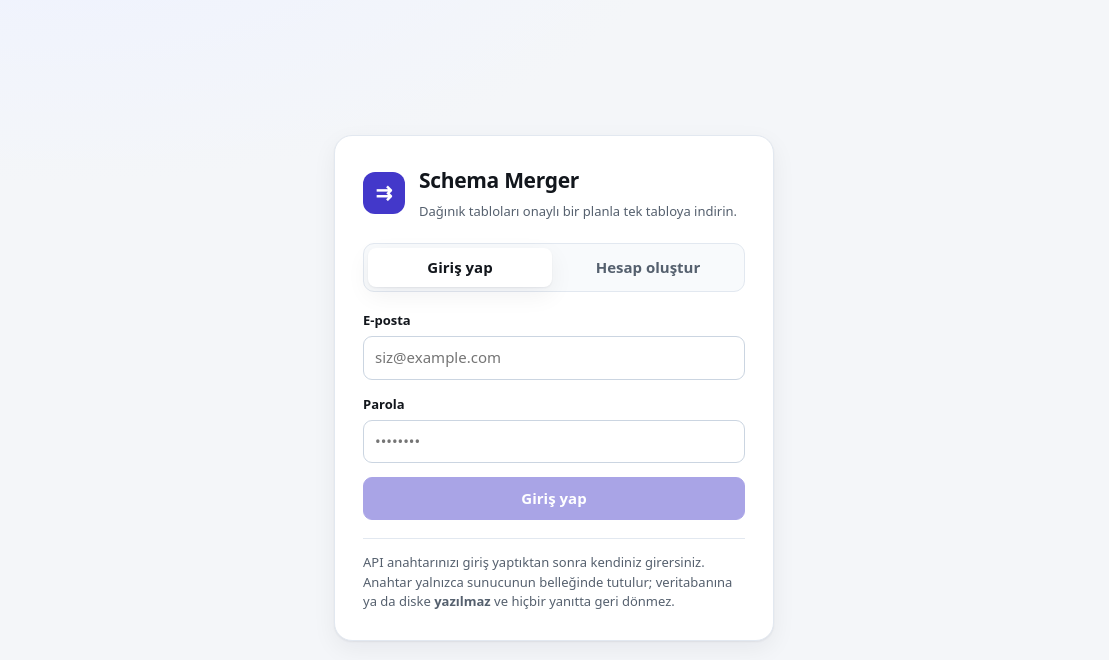
accounts › signs in and lands on the upload step
In the field labelled "E-posta": (554, 358) [363,336,745,380], type "kullanici@example.com"
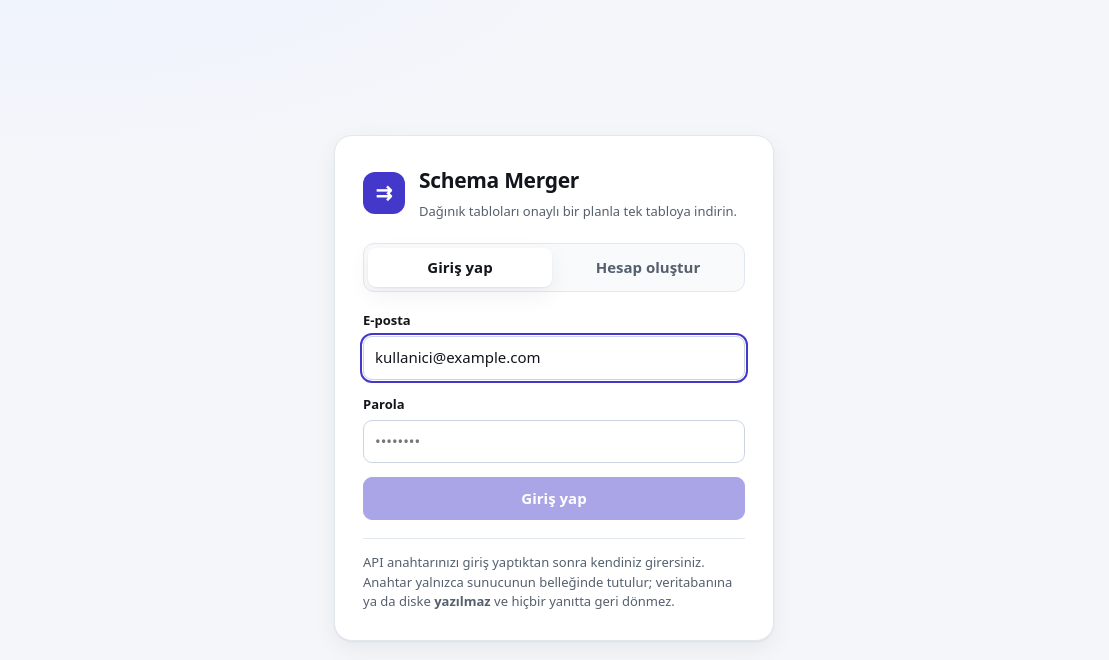
In the password field labelled "Parola": (554, 441) [363,420,745,463], type "parola1234"
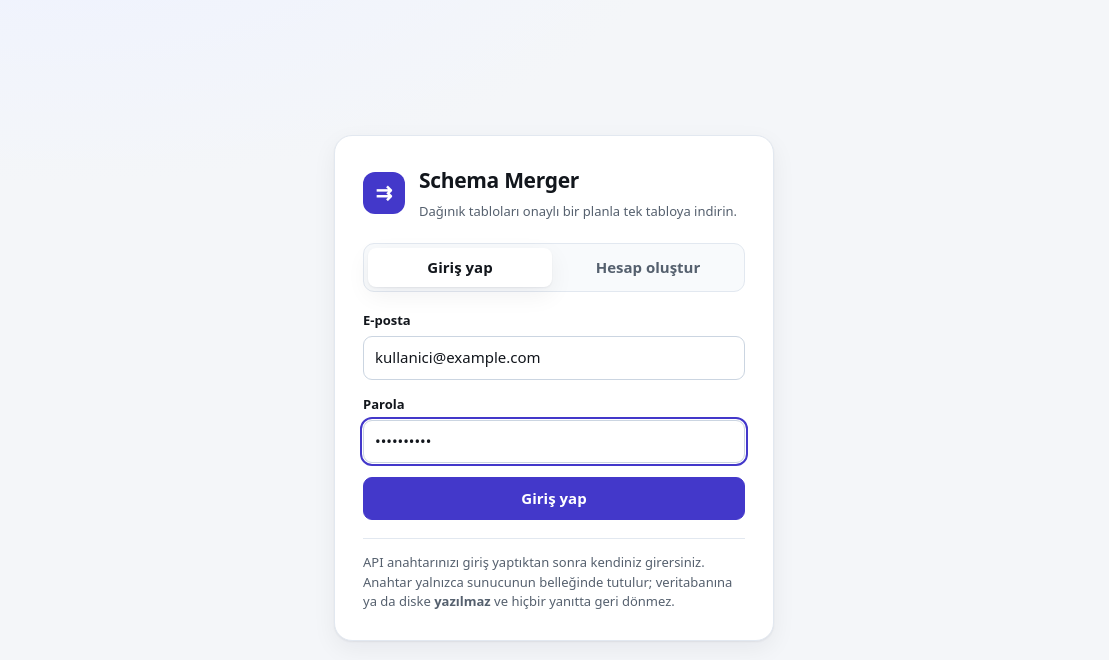
Click the button "Giriş yap": (554, 499) [363,477,745,520]
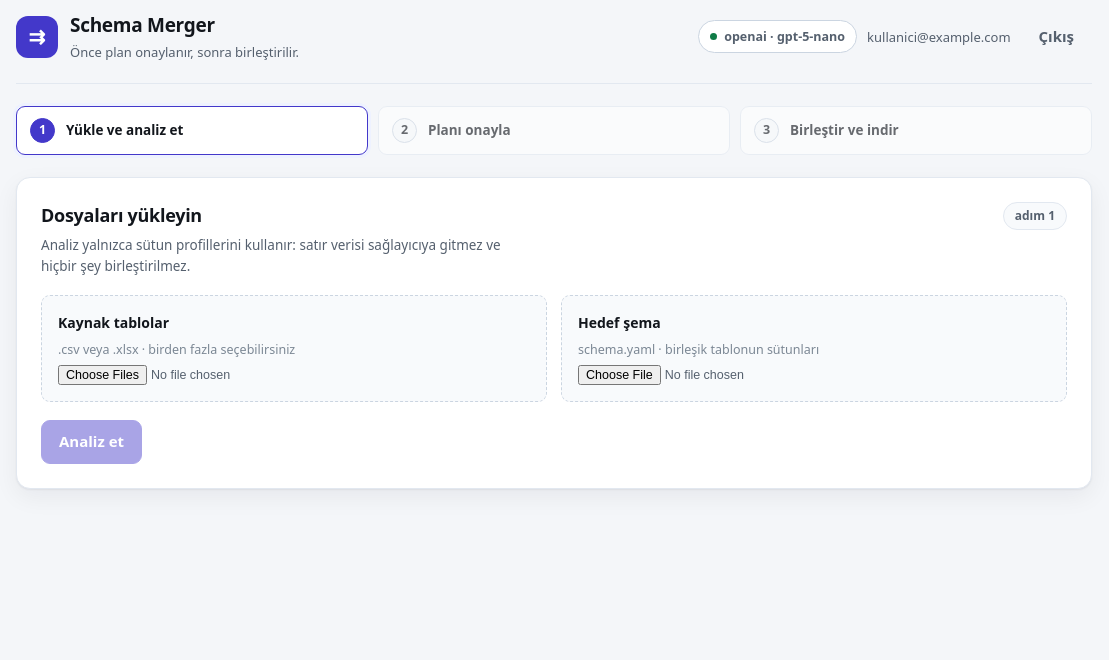
Result: the heading "Dosyaları yükleyin" is shown at [41,203,202,227]
Result: the text "kullanici@example.com" is shown at [867,27,1011,47]
